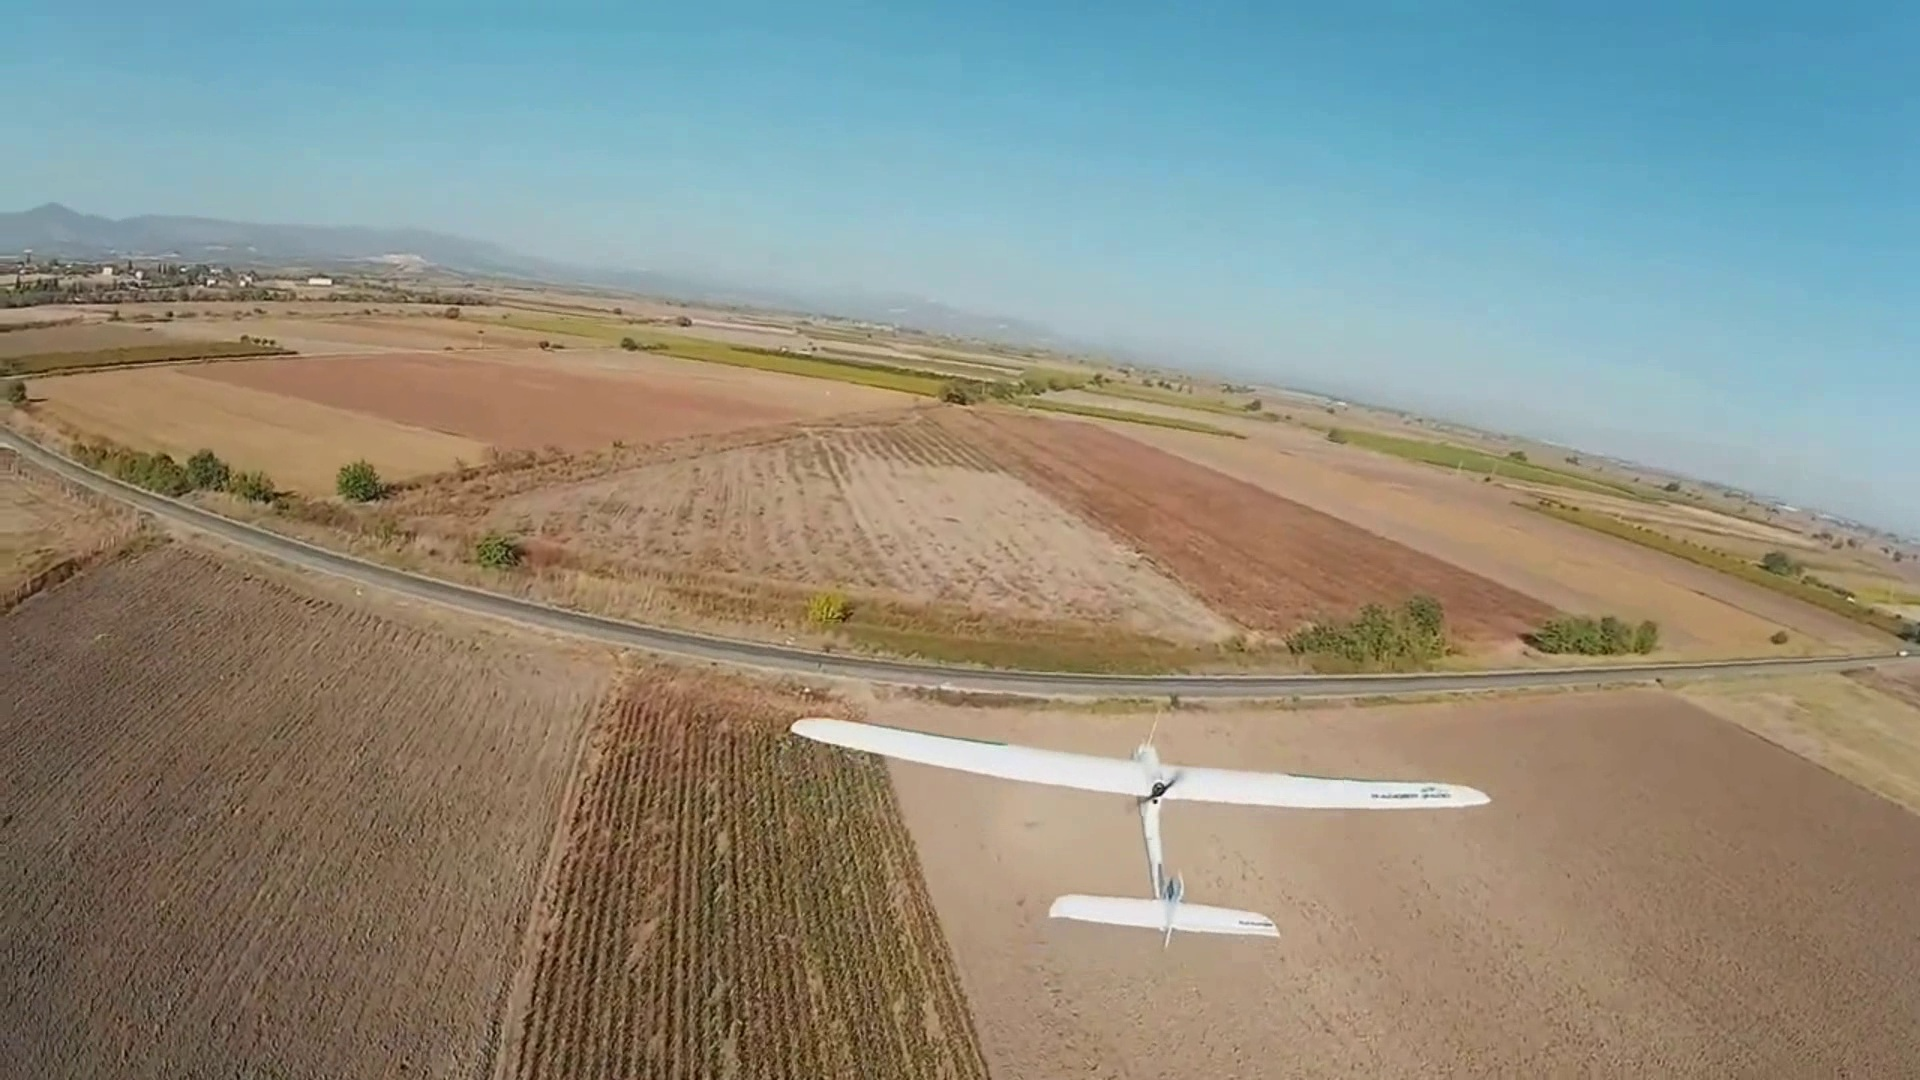airplane: (789, 712, 1490, 920)
